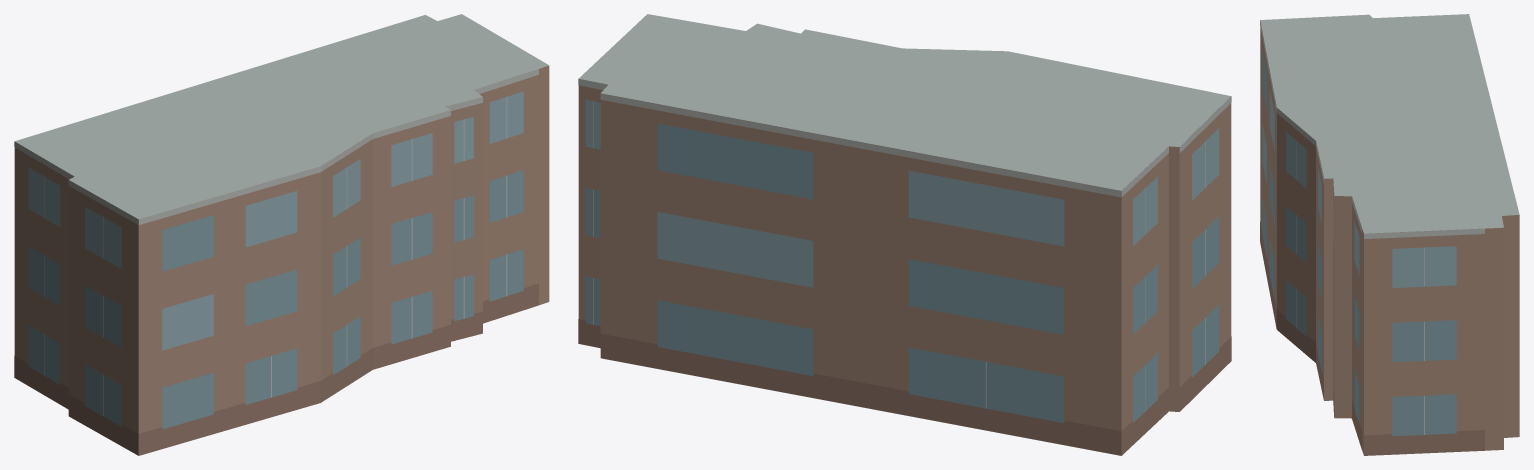
Rendered from survey-upis-32666190.glb.
The picture shows the model from 3 angles, left to right: view 1: azimuth 30°, elevation 25°; view 2: azimuth 150°, elevation 25°; view 3: azimuth 270°, elevation 25°; orthographic projection. The views are drawn at different scales.
Visible parts, largest first — view 1: survey-upis-32666190.tmp; view 2: survey-upis-32666190.tmp; view 3: survey-upis-32666190.tmp.
Boxes of the visible parts, box(x1,y1,x2,y2) form: survey-upis-32666190.tmp: box(14, 14, 549, 455); survey-upis-32666190.tmp: box(578, 14, 1231, 455); survey-upis-32666190.tmp: box(1260, 14, 1519, 455).
Size of the model in its own units: 21 by 9.9 by 10.49.
